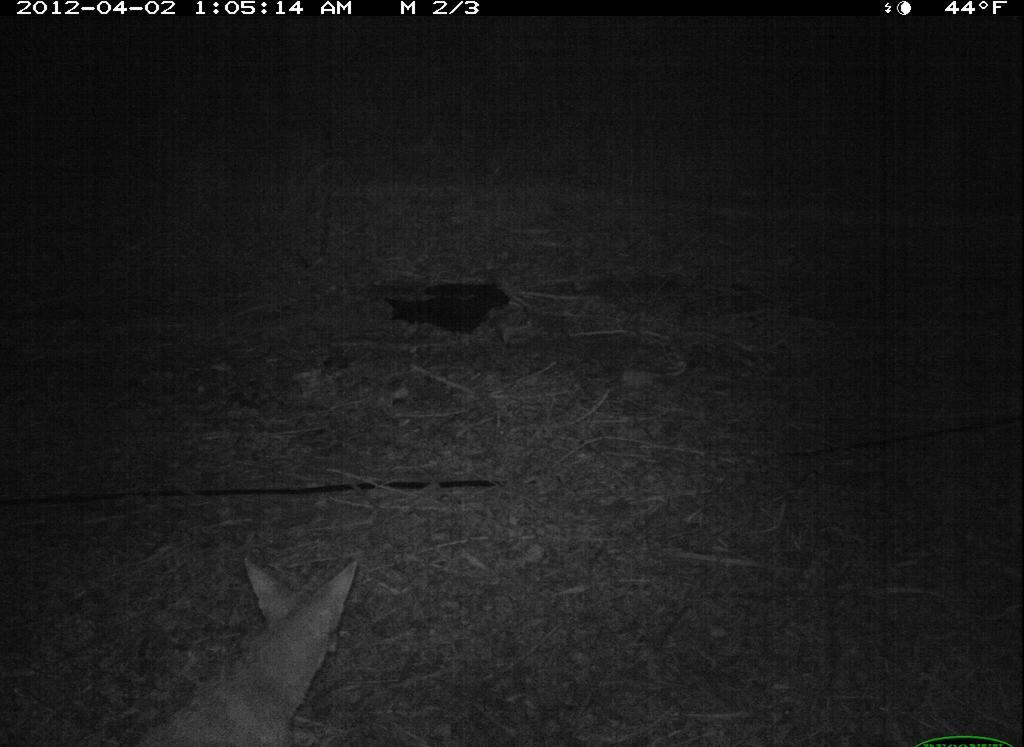coyote: (123, 547, 369, 747)
